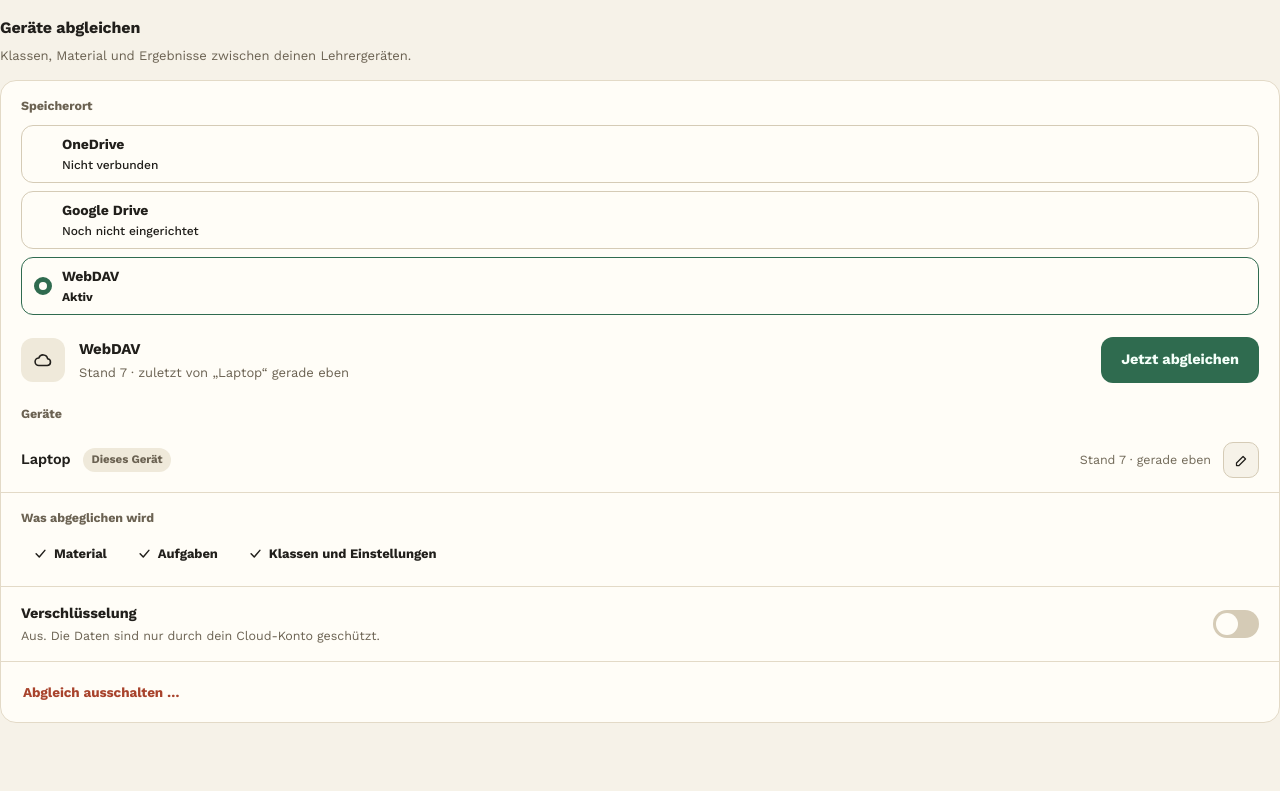
Scenario: active sync › turns encryption on for an unencrypted setup
The image size is (1280, 791).
expect the text "Aus. Die Daten sind nur durch dein Cloud-Konto geschützt." is shown: met, box [21,628,380,642]
Click the switch labelled "Verschlüsselung". click: [79, 613]
box: [1,586,1279,661]
(page scrolled)
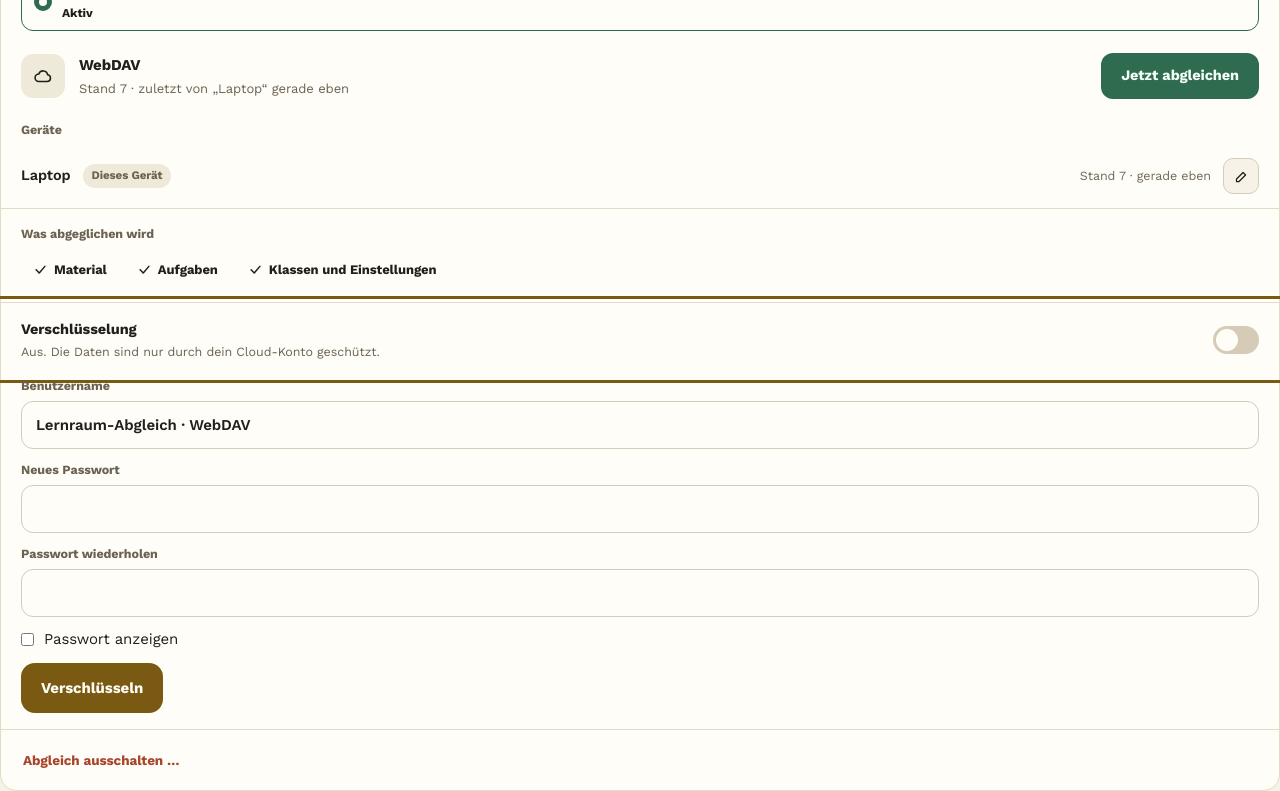
expect the button "Verschlüsseln" is shown: met, box [21,663,163,713]
